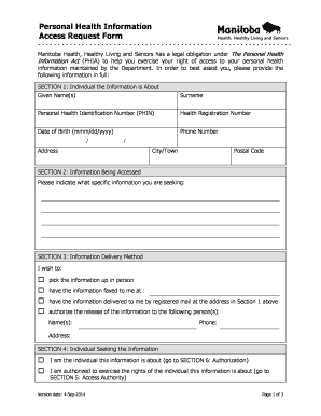checkbox: (34, 306, 45, 316), (36, 355, 47, 365), (34, 296, 46, 305), (36, 366, 46, 375), (37, 275, 45, 285), (37, 285, 45, 295)
textbox: (32, 86, 181, 115), (30, 125, 181, 151), (33, 107, 181, 131), (172, 86, 288, 116), (174, 123, 289, 150), (176, 107, 290, 133), (32, 144, 153, 168), (145, 141, 235, 168), (227, 142, 289, 169)
textline: (40, 190, 281, 205), (38, 228, 281, 242), (39, 204, 281, 217), (38, 216, 283, 228), (149, 285, 281, 299), (79, 318, 197, 331), (219, 317, 280, 331)
